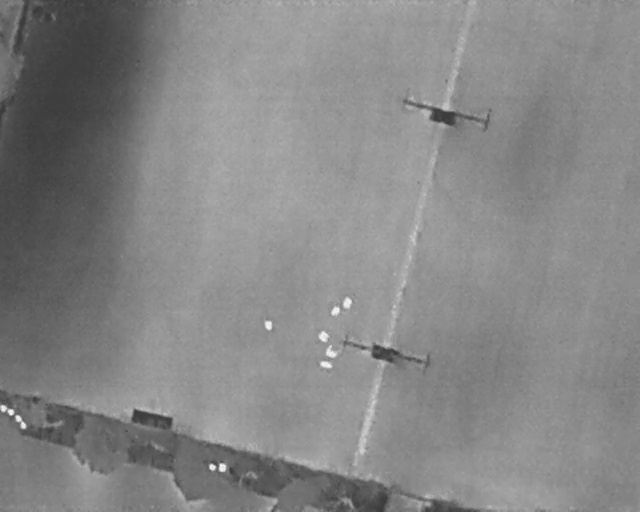Car: (325, 343, 339, 359), (317, 358, 335, 370), (319, 328, 331, 343), (342, 295, 353, 308), (330, 304, 341, 316), (264, 319, 274, 331)
